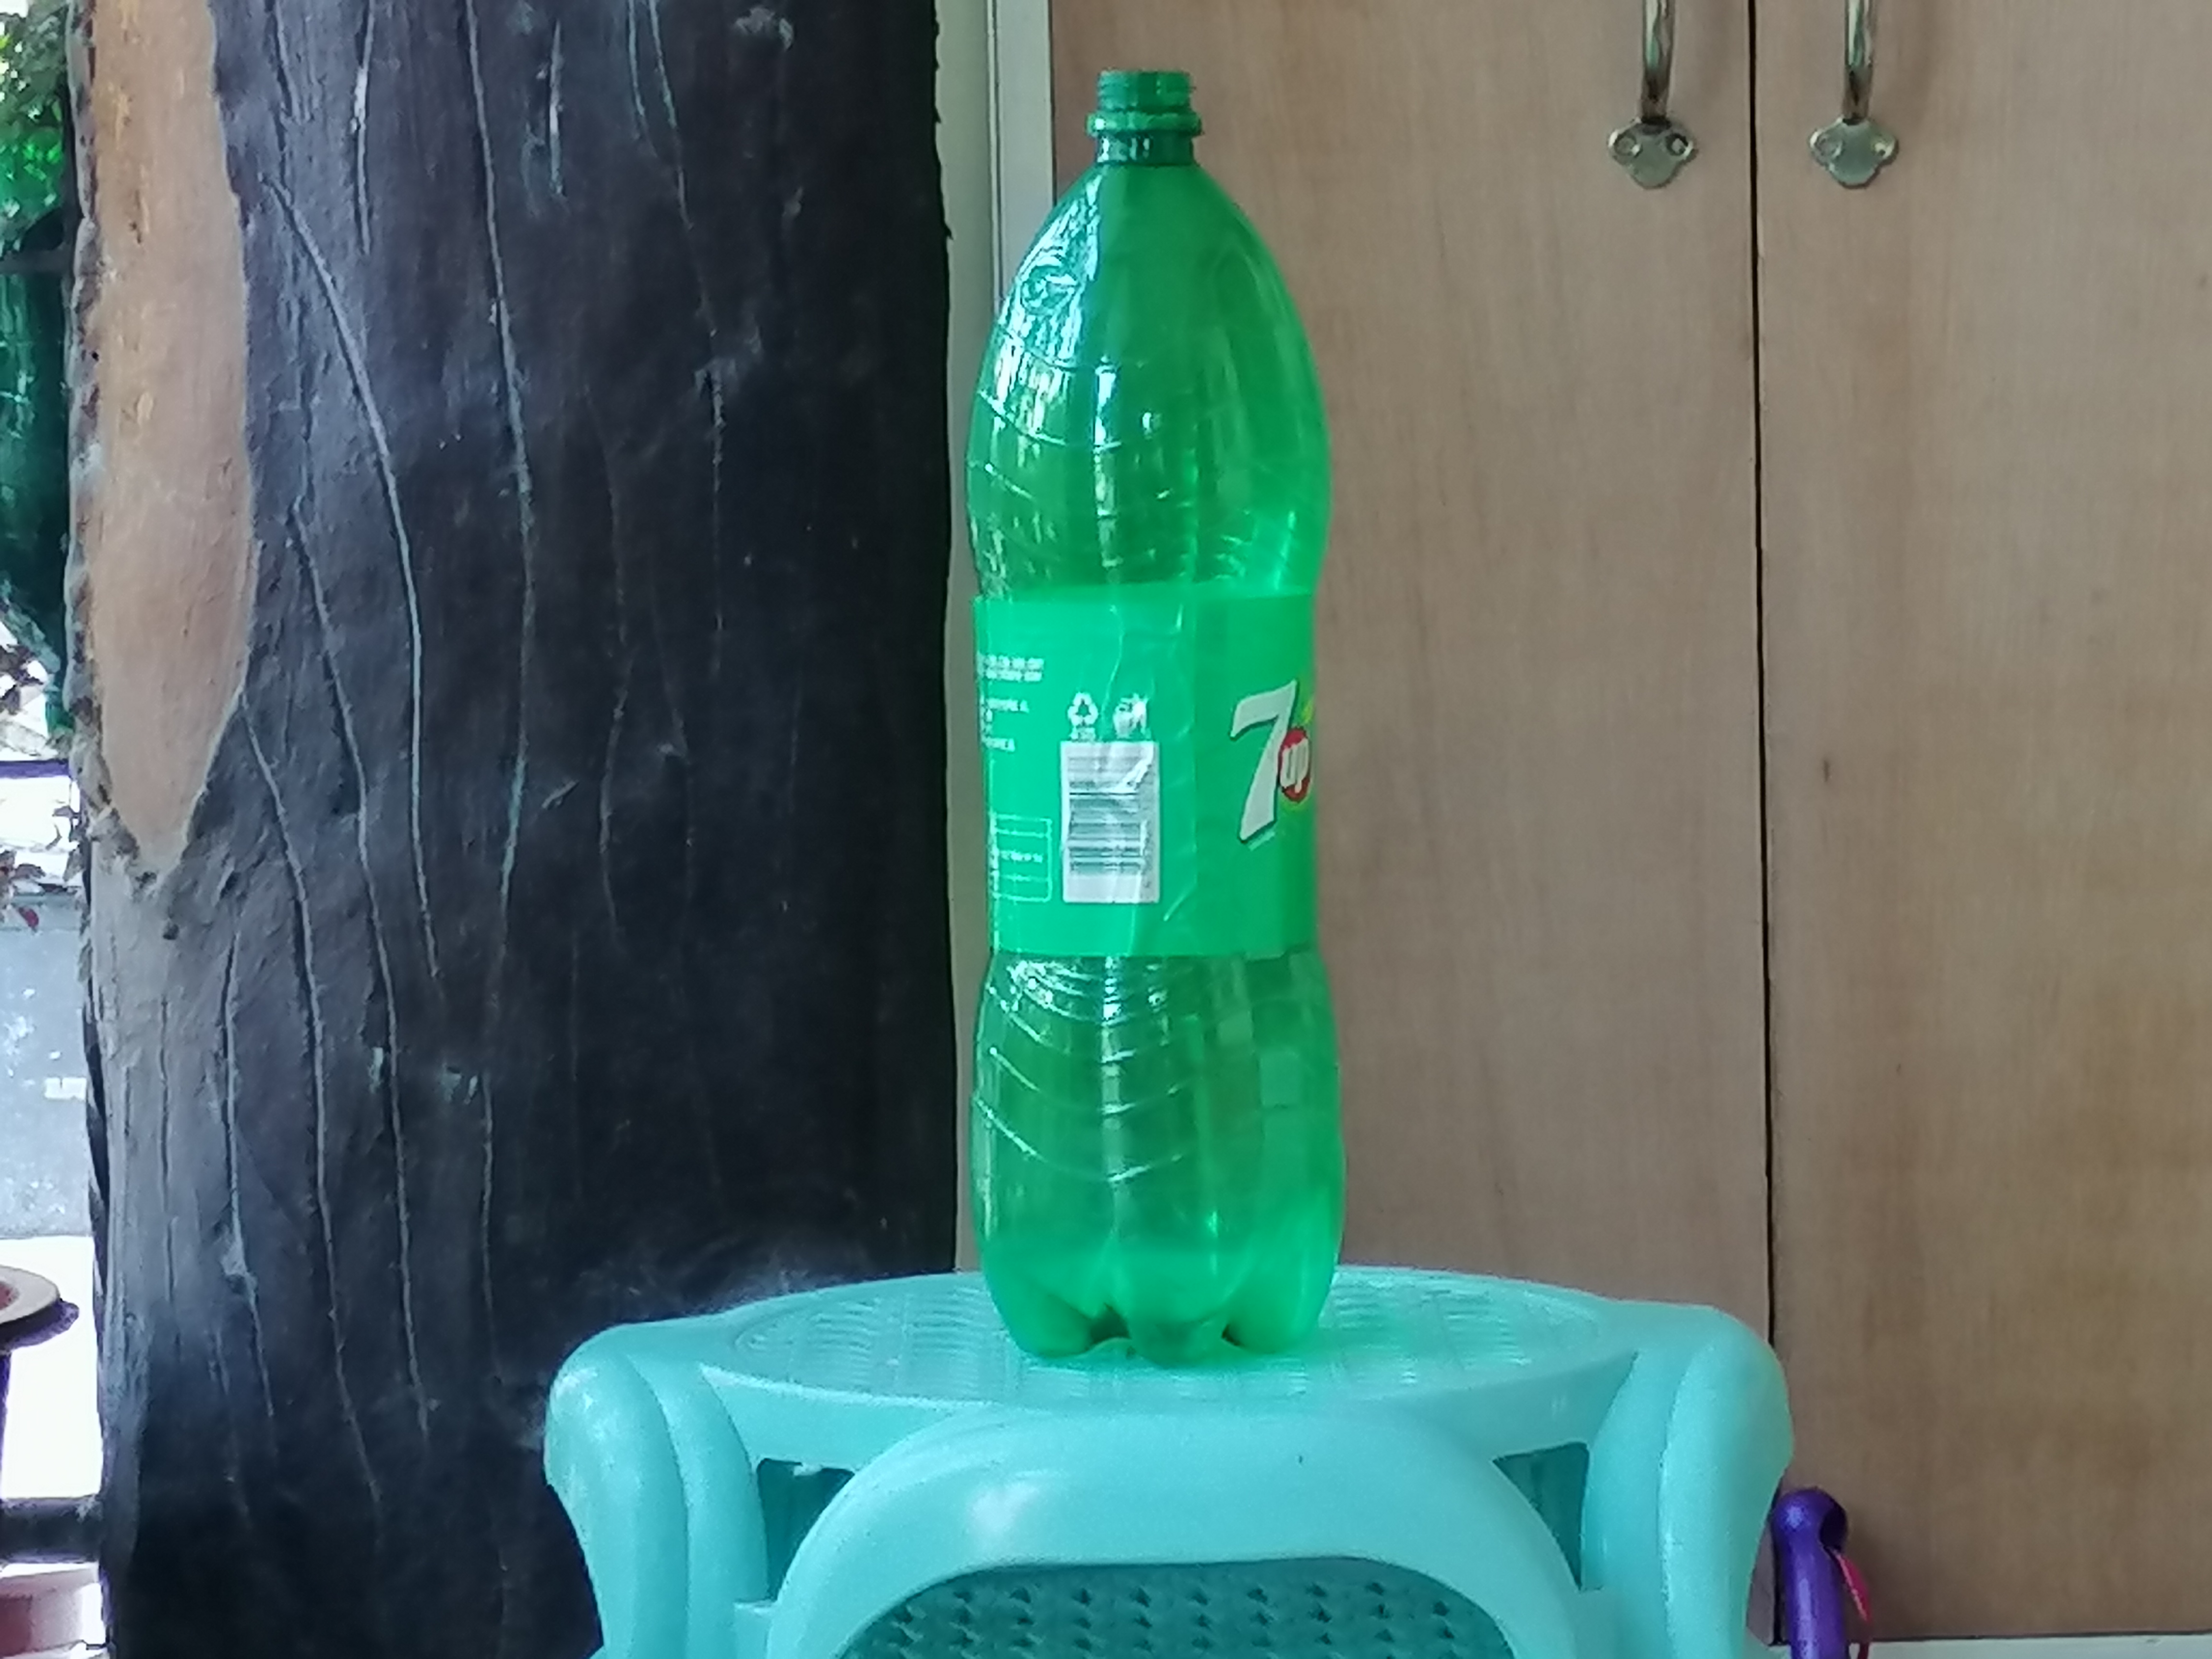bottle: (965, 73, 1346, 1363)
